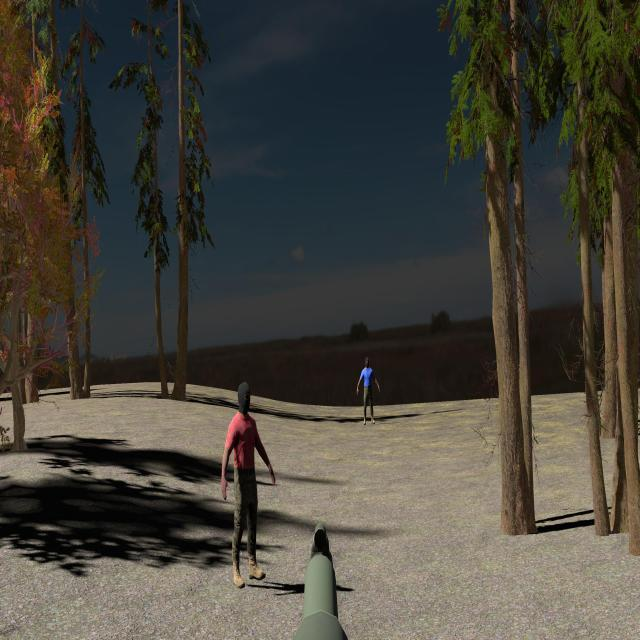Human: (221, 379, 276, 587), (357, 357, 380, 426)
